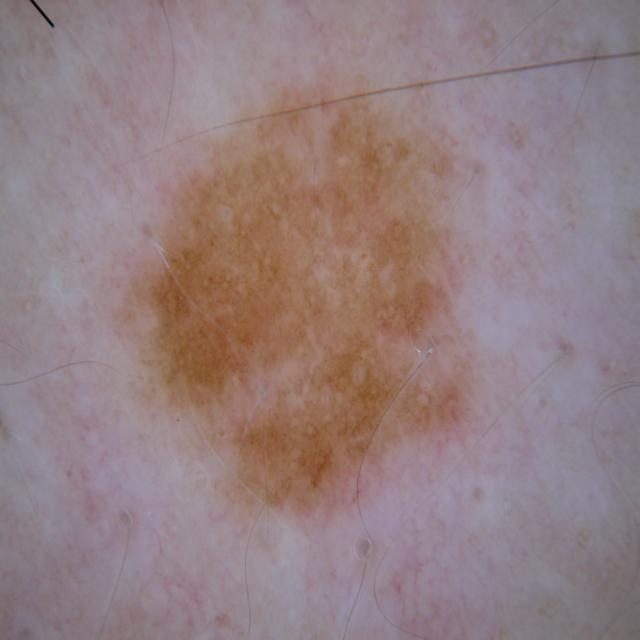Skin-Cancer Nevus: (57, 32, 638, 639)
